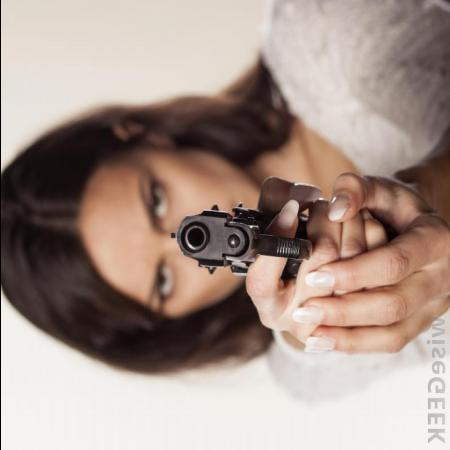Pistol: (167, 198, 314, 278)
